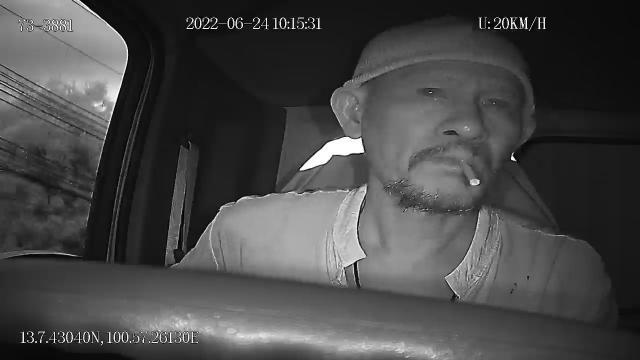SafeDriving: (412, 75, 454, 107), (474, 90, 512, 114)
Smoking: (455, 155, 483, 187)
